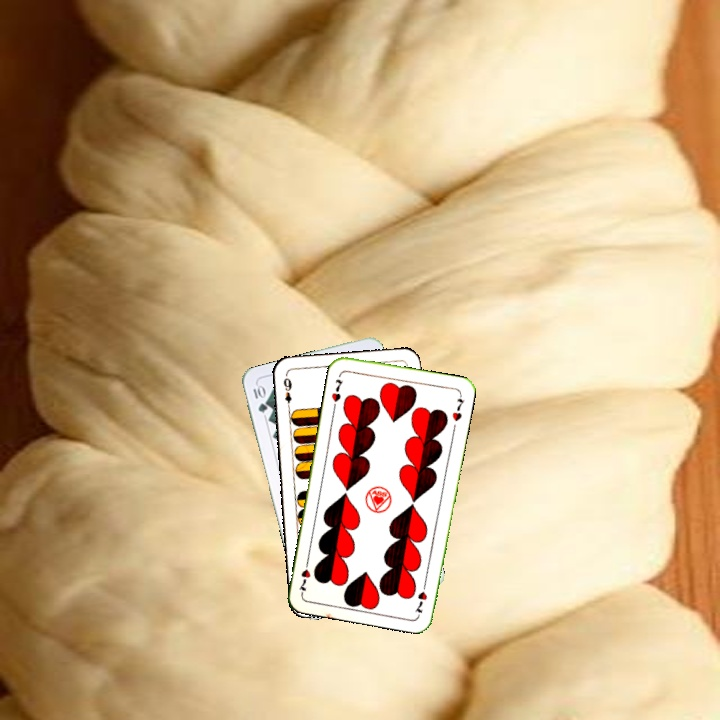E9: (279, 374, 294, 413)
G10: (249, 381, 270, 415)
H7: (411, 577, 430, 615), (327, 375, 346, 405)
